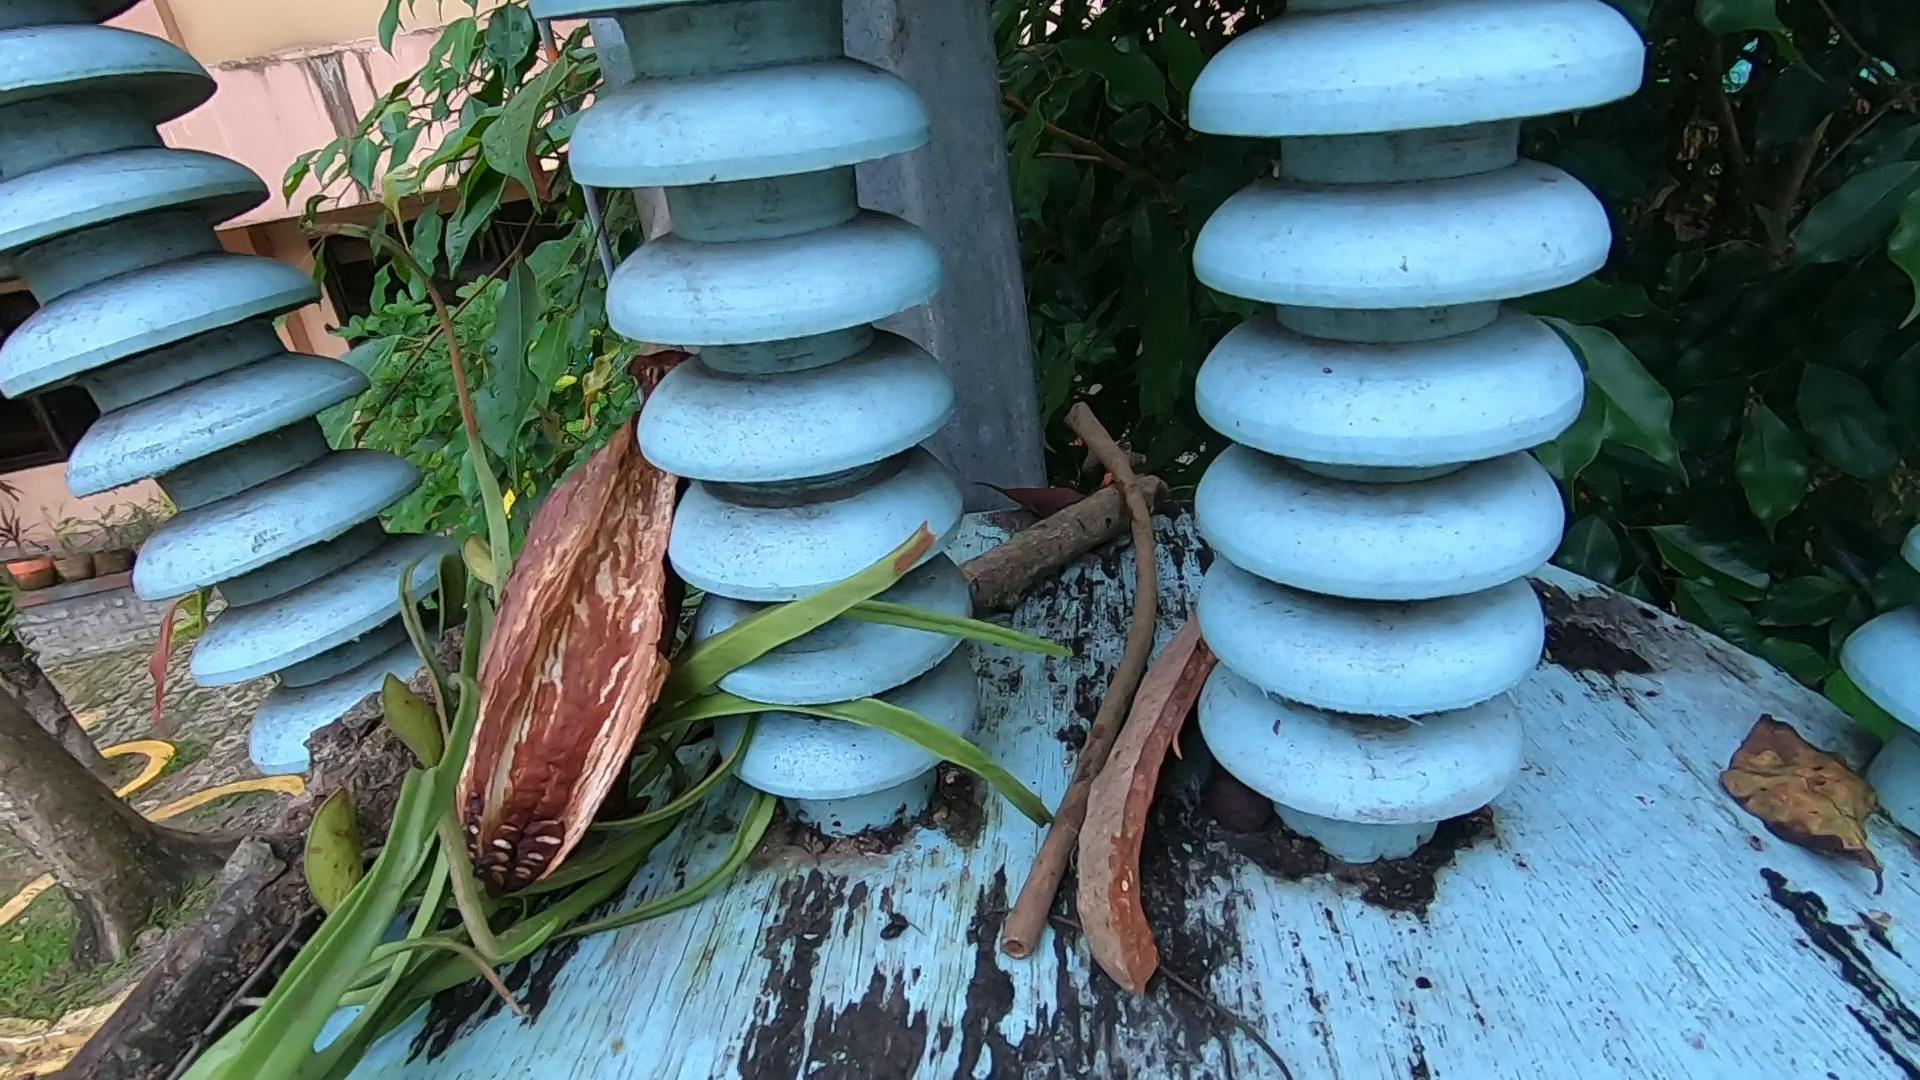branch with leaves: (66, 274, 1069, 1080)
leaf: (1724, 711, 1899, 894)
mahogany fruit: (468, 369, 720, 798), (1069, 549, 1220, 998)
tree branch: (1004, 382, 1162, 955), (956, 465, 1164, 596)
